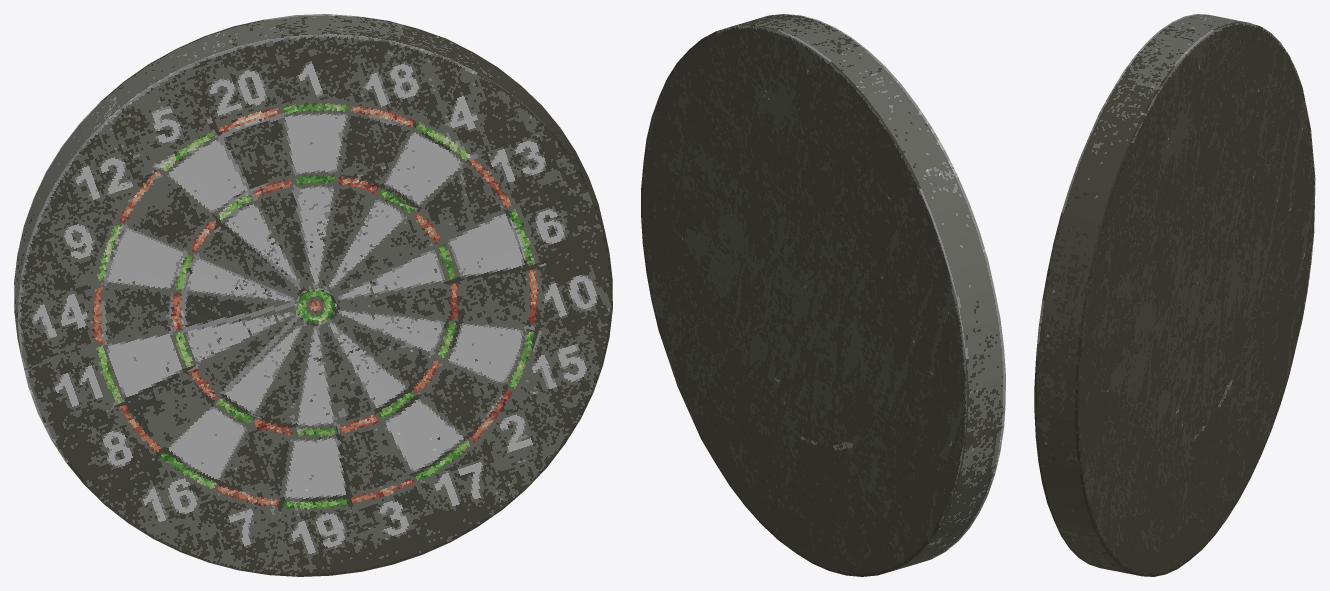
File: dartboard.glb
3 views of the same model, side by side, from view 1: azimuth 30°, elevation 25°; view 2: azimuth 150°, elevation 25°; view 3: azimuth 270°, elevation 25° (orthographic). The views are drawn at different scales.
Parts seen in each view (by area): view 1: model_m; view 2: model_m; view 3: model_m.
Part boxes in pixels (x1,y1,x2,y2): model_m: [14, 14, 612, 576]; model_m: [641, 14, 1005, 576]; model_m: [1034, 14, 1315, 576].
Size of the model in its own units: 37.68 by 40 by 19.96.
Materials: 1 (1 with a texture image).
